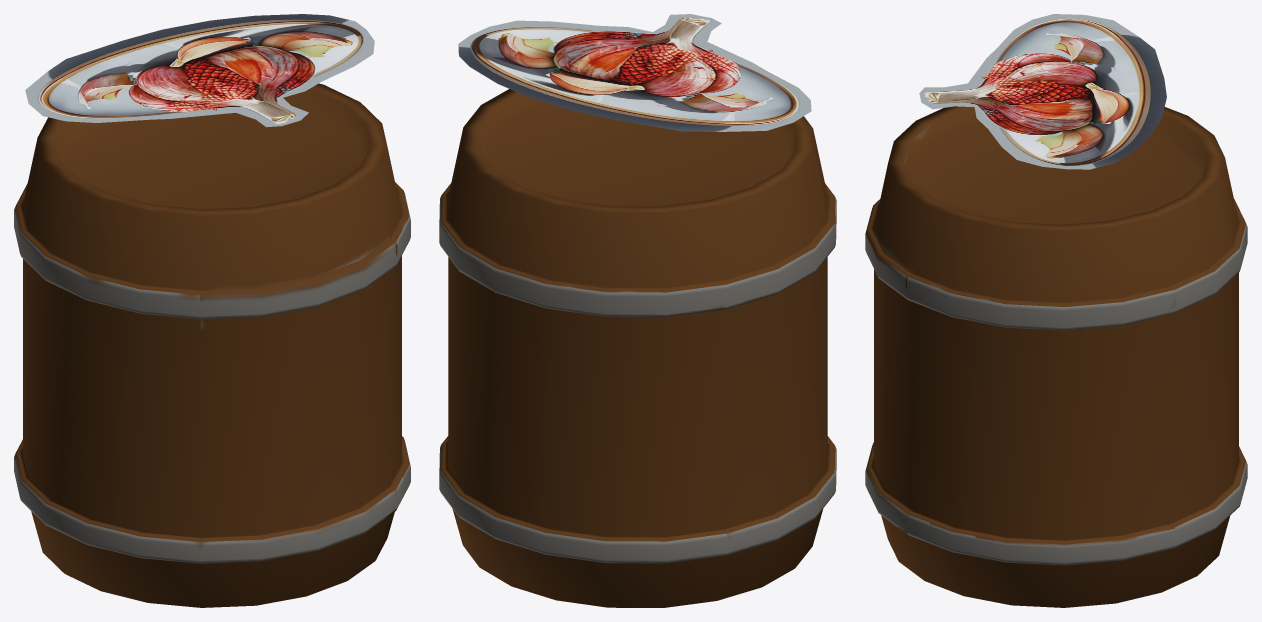
File: Ingredientes_10_DientesdeVampiro.fbx
3 renders of one model, left to right at view 1: azimuth 30°, elevation 25°; view 2: azimuth 150°, elevation 25°; view 3: azimuth 270°, elevation 25°, orthographic. The views are drawn at different scales.
Visible parts, largest first — view 1: Barril_mesh, MK_Ingredientes_10_DientesdeVampiro; view 2: Barril_mesh, MK_Ingredientes_10_DientesdeVampiro; view 3: Barril_mesh, MK_Ingredientes_10_DientesdeVampiro.
Boxes of the visible parts, bbox=[...] form: Barril_mesh: bbox=[14, 83, 410, 607]; MK_Ingredientes_10_DientesdeVampiro: bbox=[25, 14, 374, 127]; Barril_mesh: bbox=[439, 89, 836, 607]; MK_Ingredientes_10_DientesdeVampiro: bbox=[458, 14, 811, 131]; Barril_mesh: bbox=[865, 106, 1247, 607]; MK_Ingredientes_10_DientesdeVampiro: bbox=[919, 14, 1166, 169].
Bounding box in the file's own units: 1.84 × 2.35 × 1.84.
2 materials, 2 textured.
